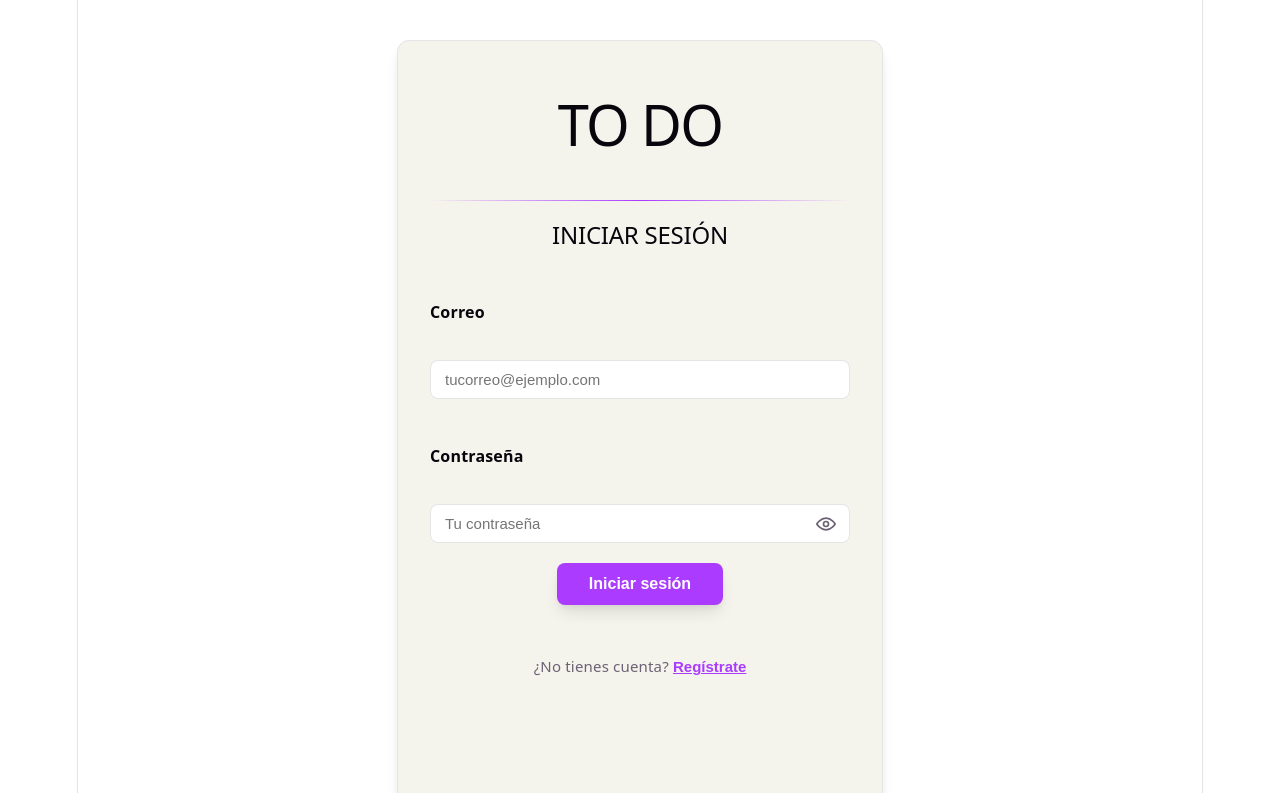
App autenticada › rol de administrador › al cambiar de ADMIN a USER no queda abierta la vista del resumen
Type "admin@todo.local" into the field labelled "Correo".
click(640, 380); type("admin@todo.local")  # box [430,360,850,399]
Type "ContrasenaDemo123!" into the password field labelled "Contraseña".
click(640, 524); type("ContrasenaDemo123!")  # box [430,504,850,543]
Click the button "Iniciar sesión".
click(640, 584)  # box [557,563,723,605]
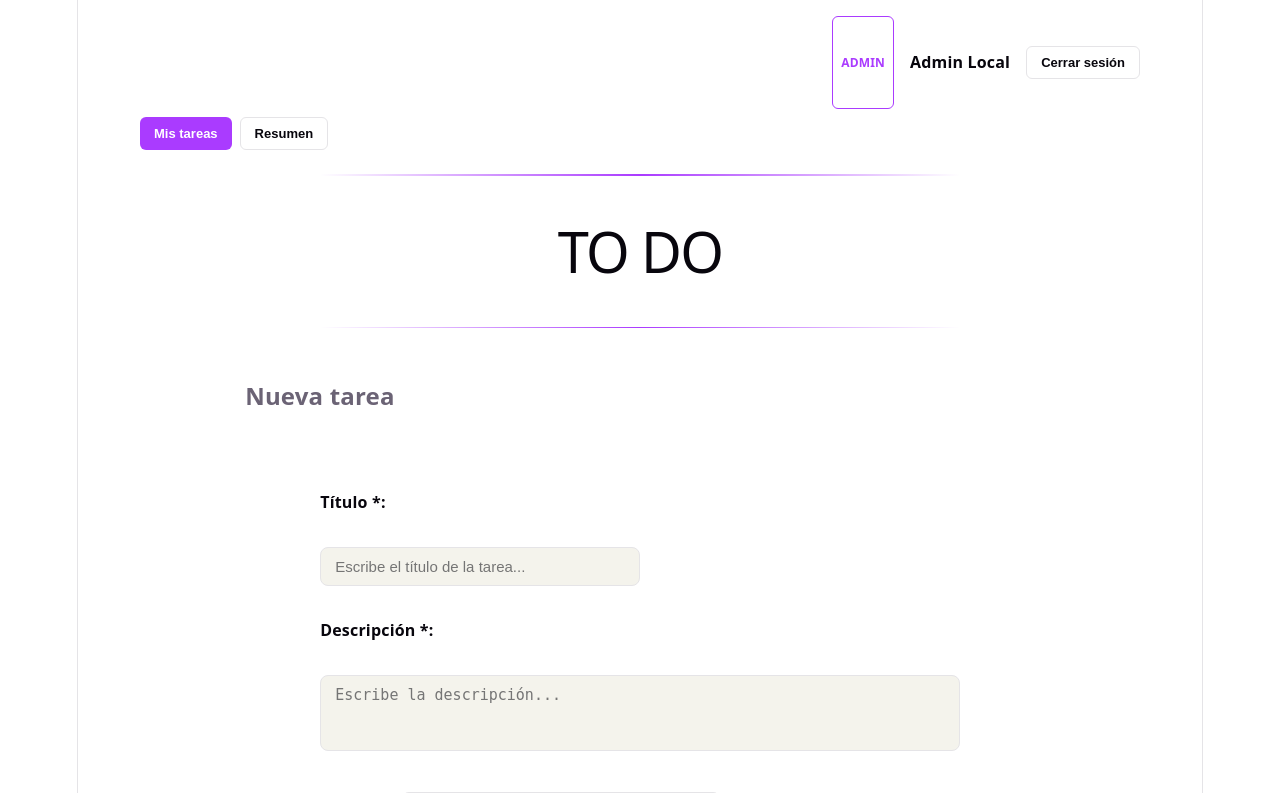
Click the button "Resumen".
click(284, 134)  # box [240,117,328,150]
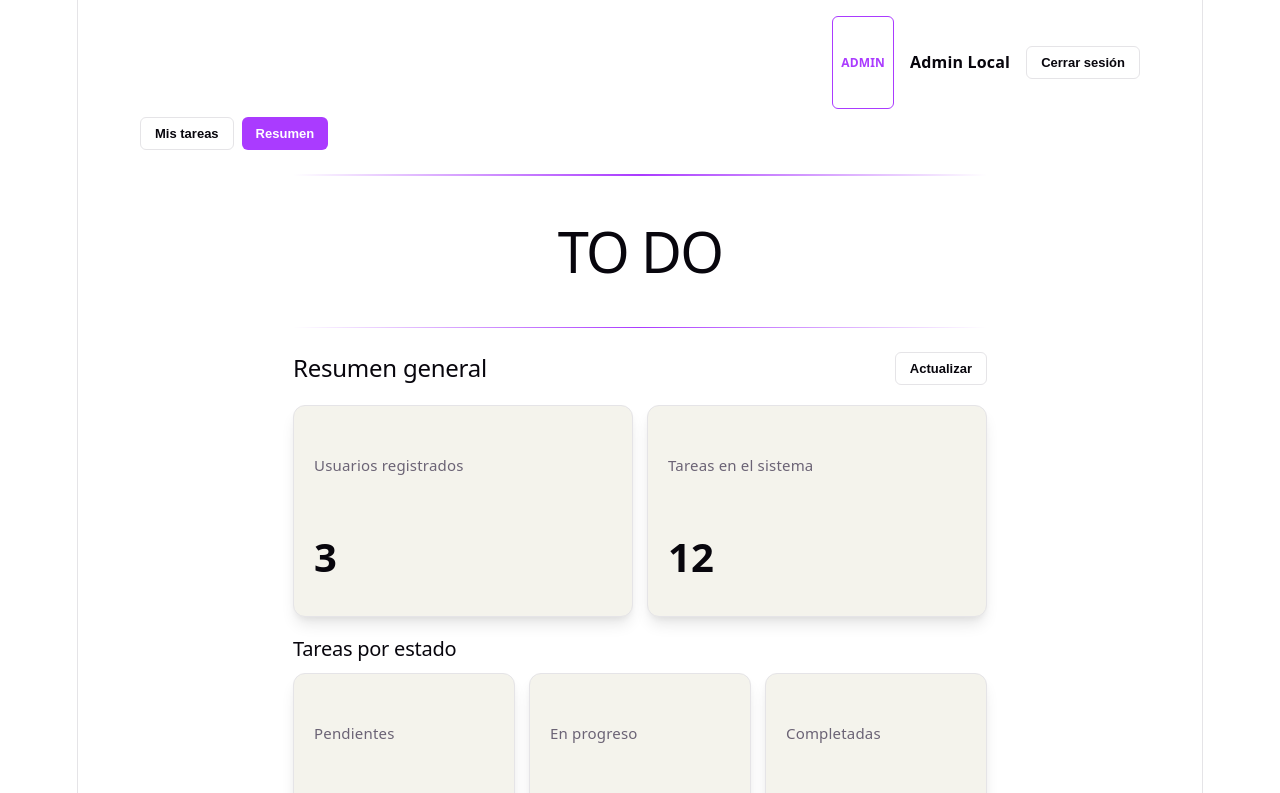
expect the text with test id "stat-users" is shown: met, box [314,529,337,584]
Click the button "Cerrar sesión".
click(1083, 62)  # box [1026,46,1140,79]
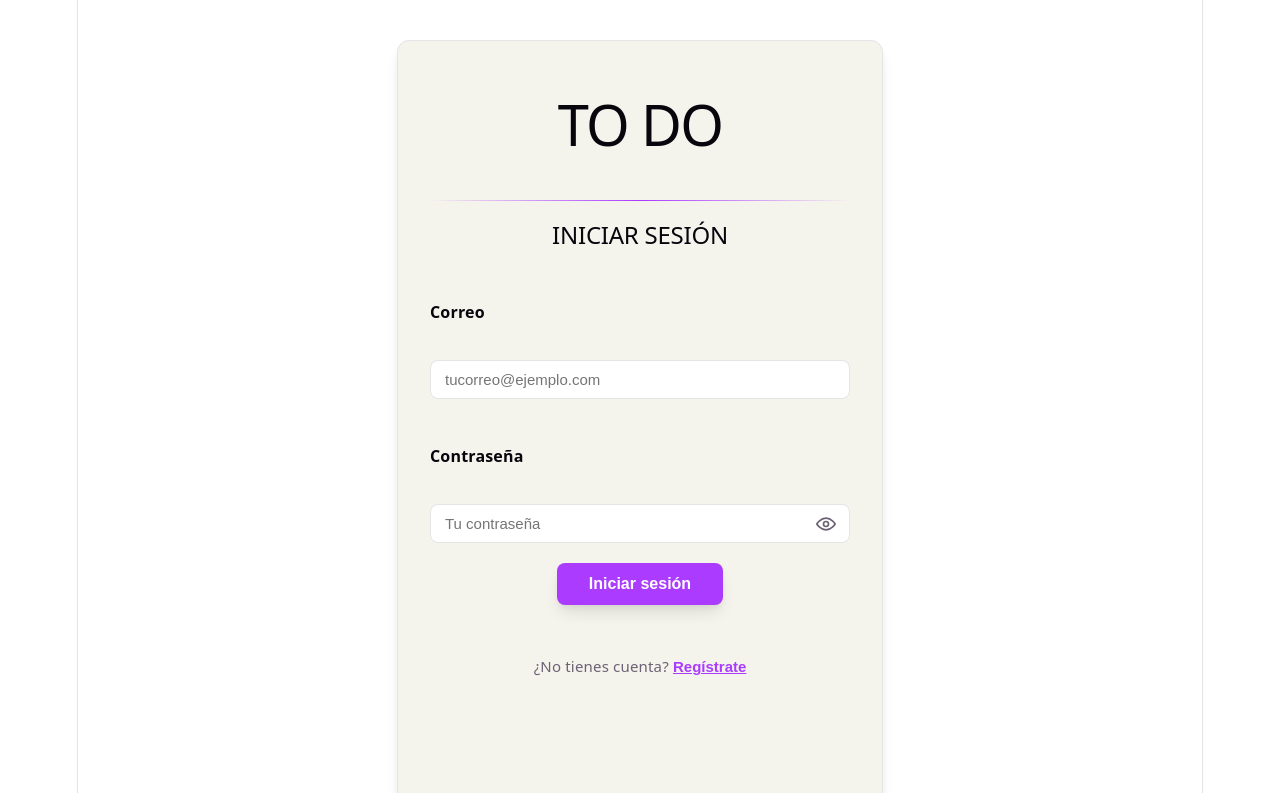
Type "ana@example.com" into the field labelled "Correo".
click(640, 380); type("ana@example.com")  # box [430,360,850,399]
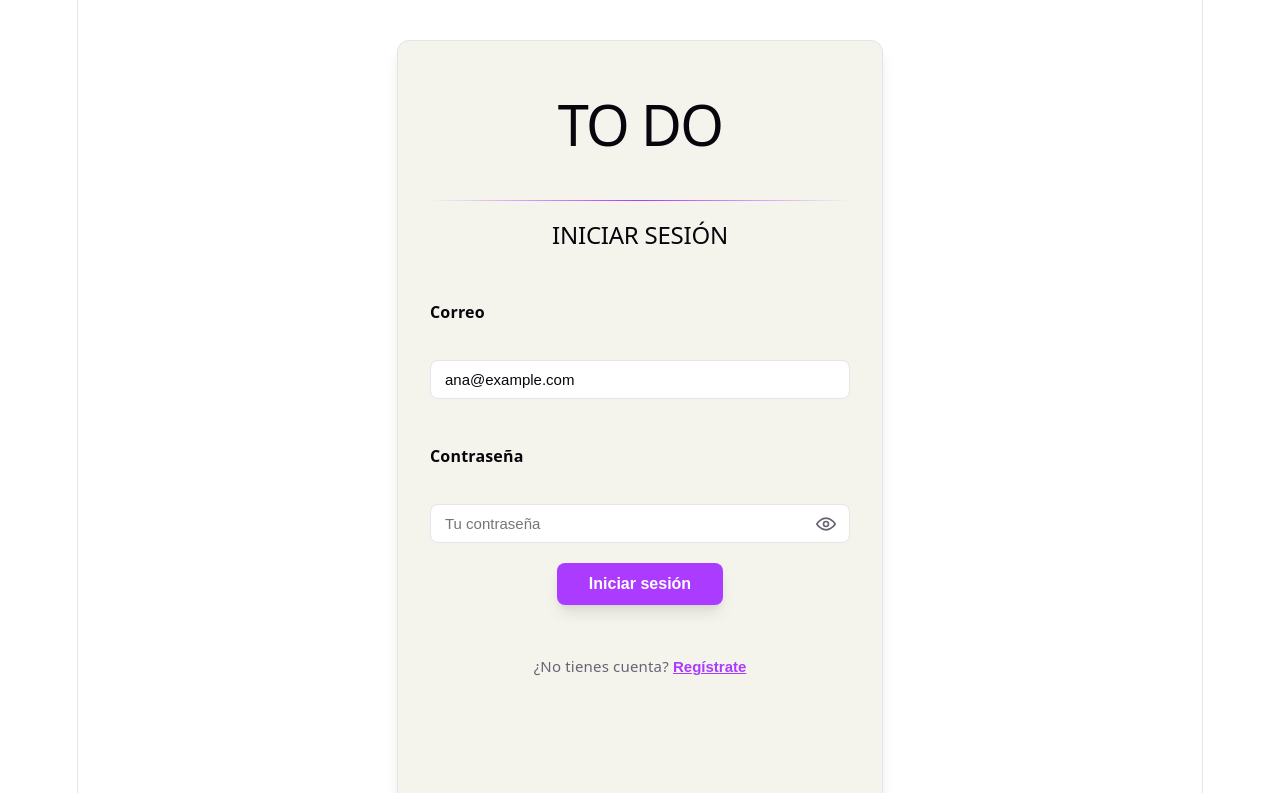
Type "ContrasenaDemo123!" into the password field labelled "Contraseña".
click(640, 524); type("ContrasenaDemo123!")  # box [430,504,850,543]
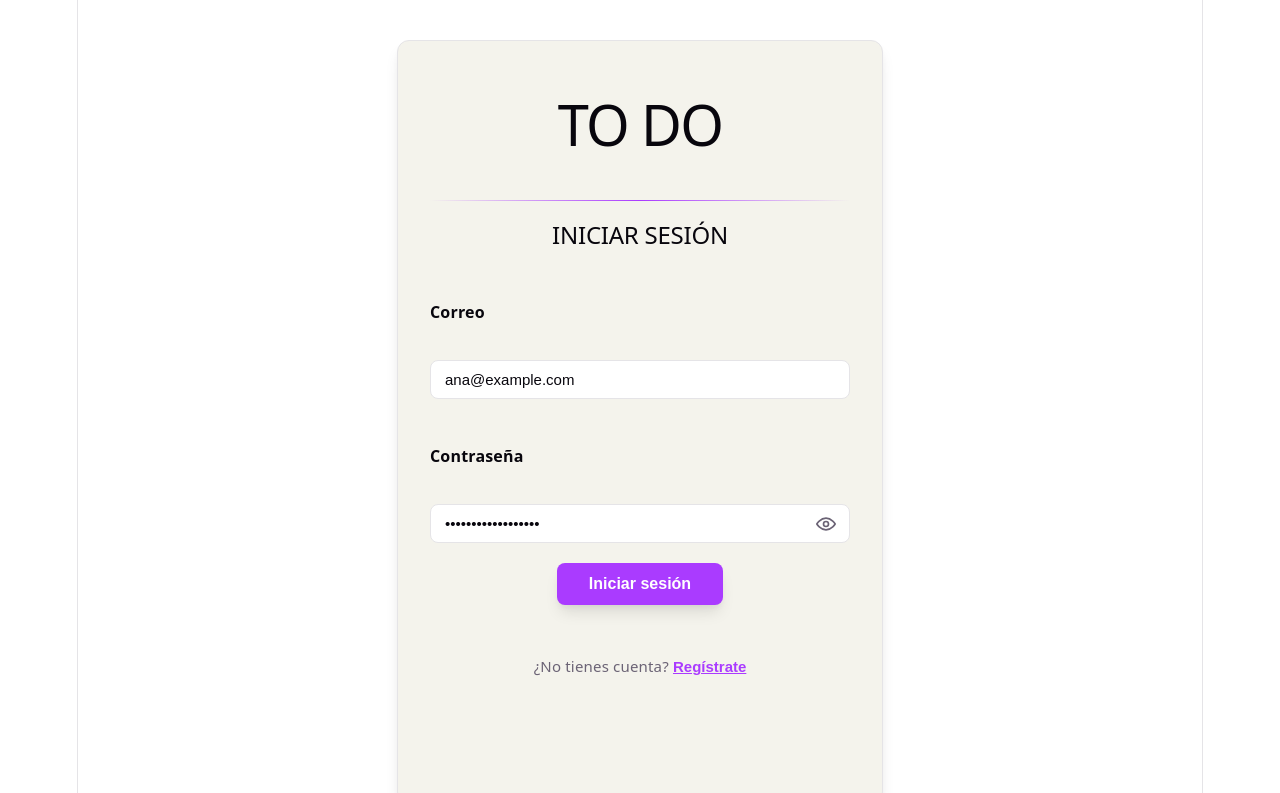
Click the button "Iniciar sesión".
click(640, 584)  # box [557,563,723,605]
(page scrolled)
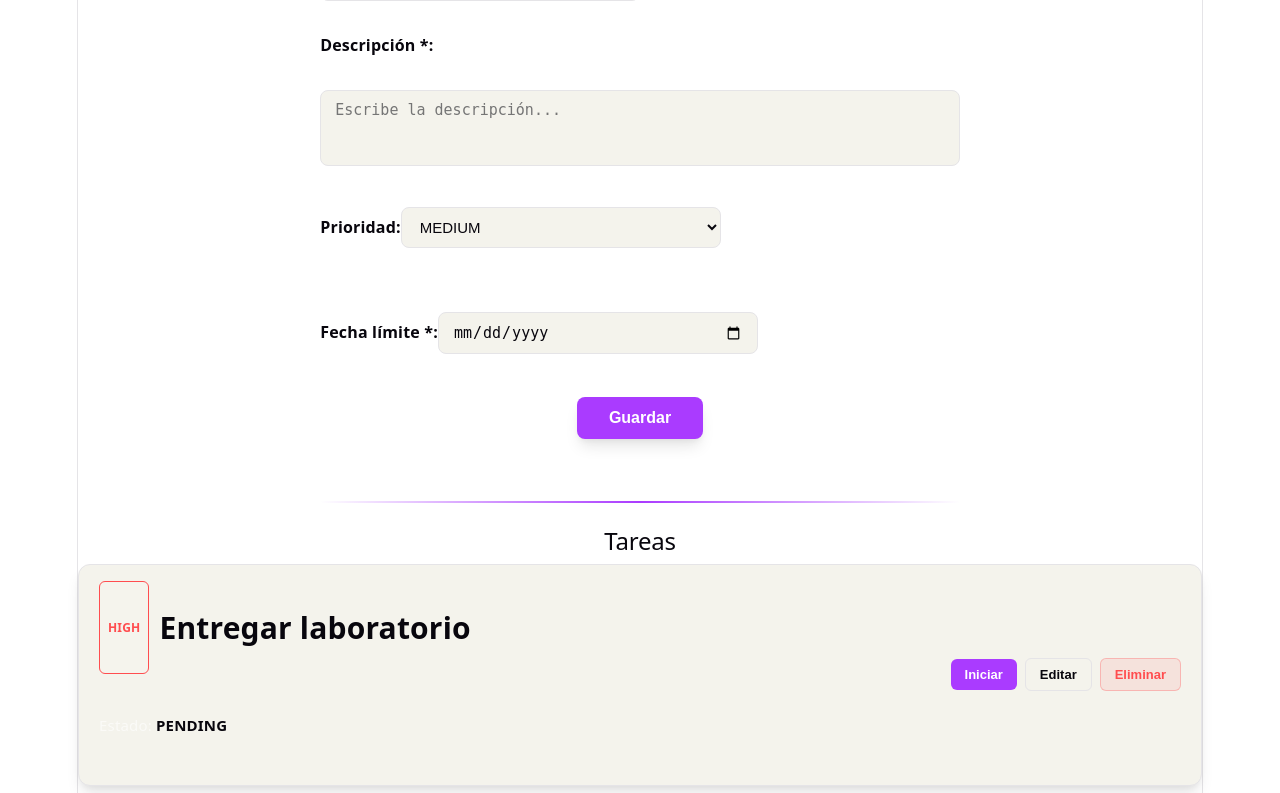
expect the heading "Entregar laboratorio" is shown: met, box [159,607,471,648]
